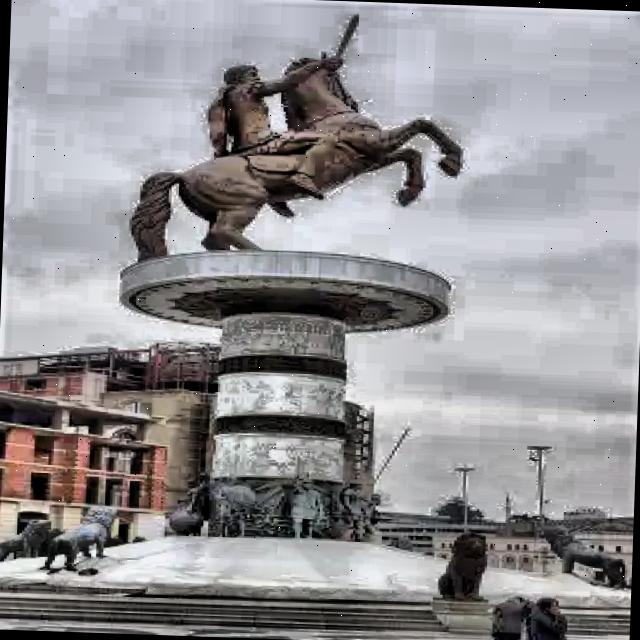alexander the great monument: (108, 1, 468, 556)
